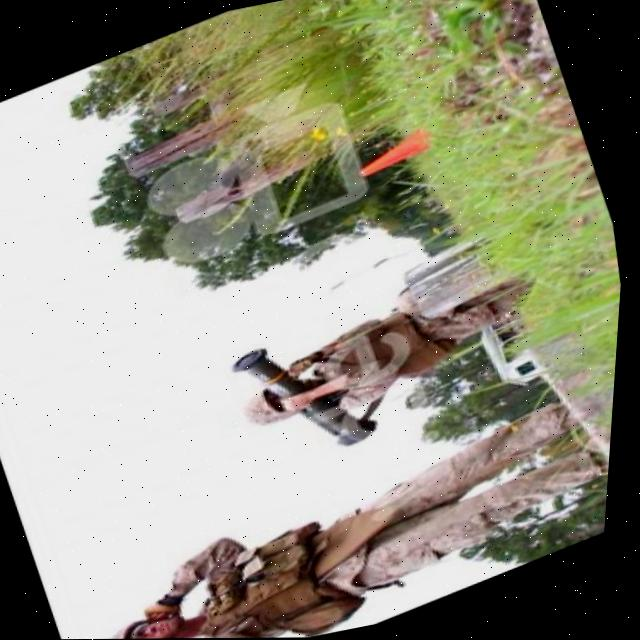rocket: (221, 304, 412, 484)
